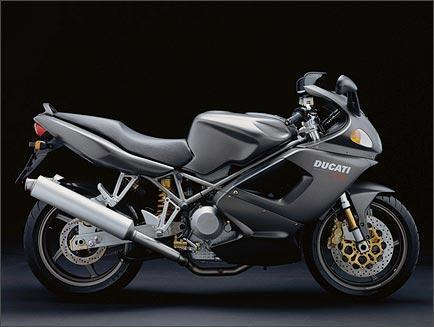motorcycle: (3, 56, 434, 312)
